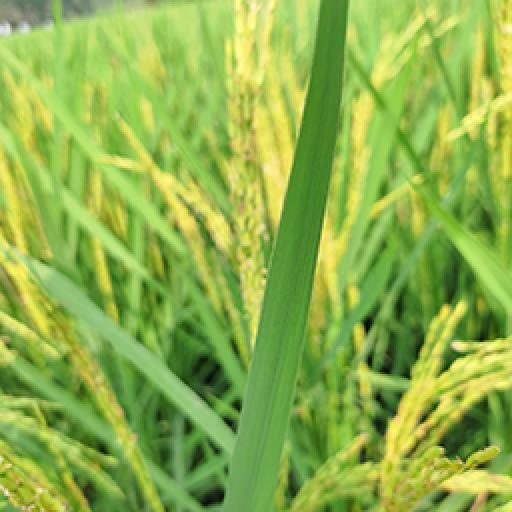Healthy Leaf: (220, 2, 350, 508)
